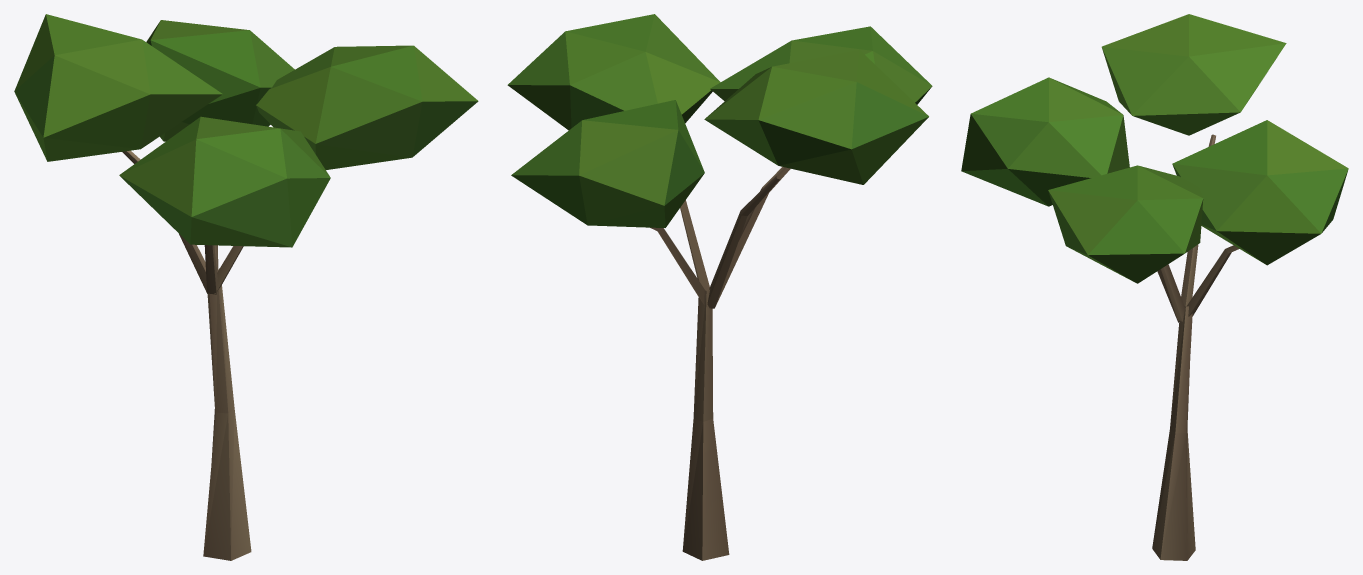
File: canopy_vines_far.glb
3 renders of one model, left to right at view 1: azimuth 30°, elevation 25°; view 2: azimuth 150°, elevation 25°; view 3: azimuth 270°, elevation 25°, orthographic. The views are drawn at different scales.
Visible parts, largest first — view 1: canopy_vines_far_leafy, canopy_vines_far_solid; view 2: canopy_vines_far_leafy, canopy_vines_far_solid; view 3: canopy_vines_far_leafy, canopy_vines_far_solid.
Part boxes in pixels (left/top/right/bottom): canopy_vines_far_leafy: left=14, top=14, right=478, bottom=247; canopy_vines_far_solid: left=122, top=150, right=251, bottom=560; canopy_vines_far_leafy: left=507, top=14, right=932, bottom=227; canopy_vines_far_solid: left=650, top=167, right=790, bottom=560; canopy_vines_far_leafy: left=961, top=14, right=1348, bottom=283; canopy_vines_far_solid: left=1152, top=134, right=1239, bottom=560.
Bounding box in the file's own units: 11.11 × 13.72 × 10.27.
